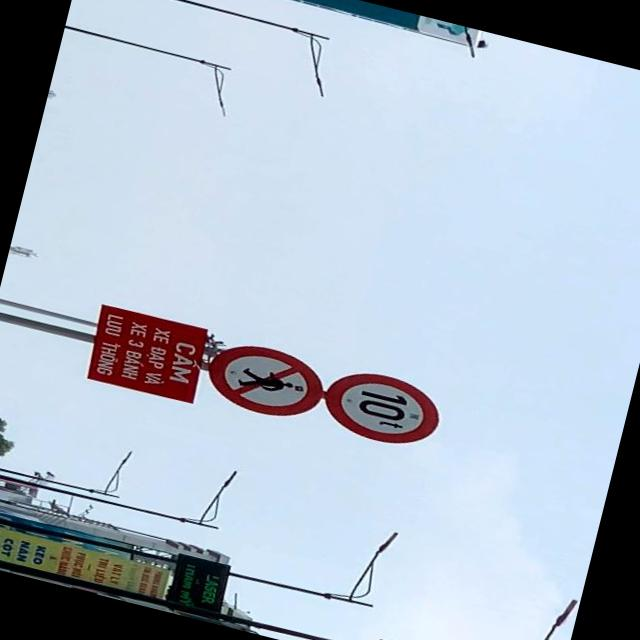P-112: (200, 333, 331, 428)
P-115: (318, 364, 447, 454)
